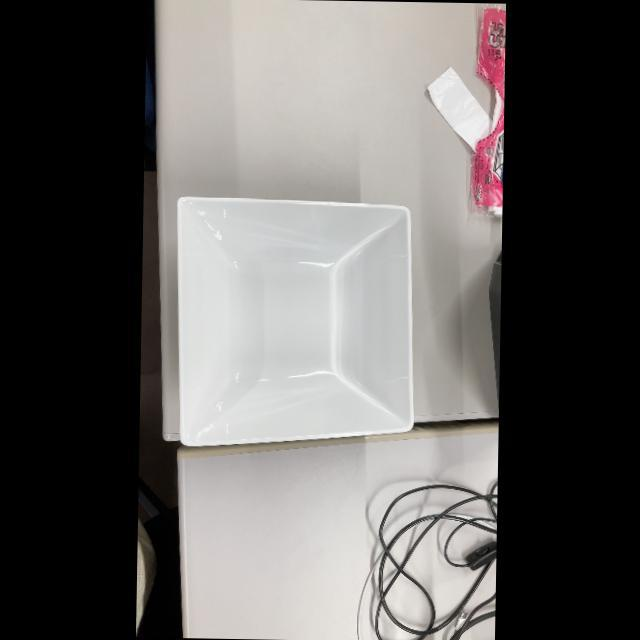plate: (168, 192, 422, 449)
